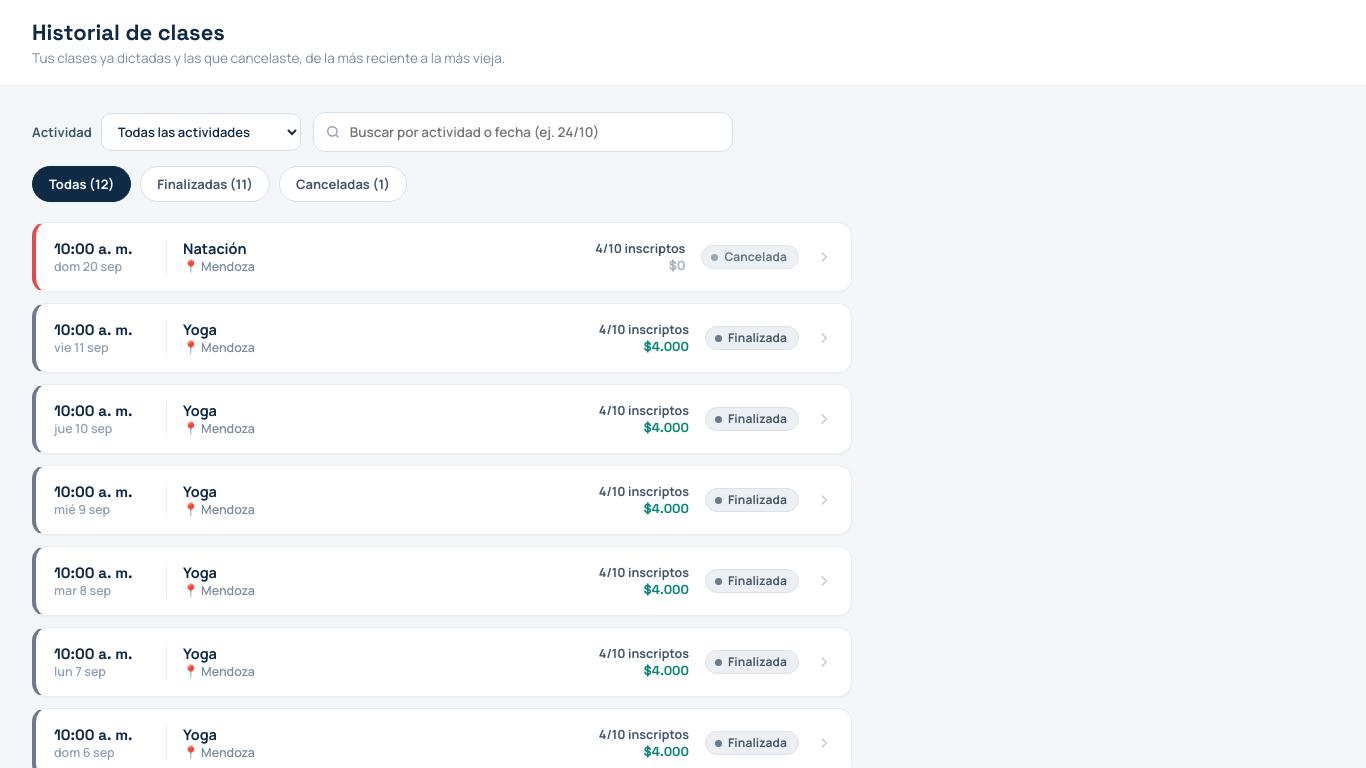
Test: historial del instructor › sin coincidencias lo dice
The width and height of the screenshot is (1366, 768).
expect the button "Todas (12)" is shown: met, box [32, 166, 131, 202]
Type "pilates" into the search field named "Buscar clases".
click(523, 132); type("pilates")  # box [313, 112, 733, 152]
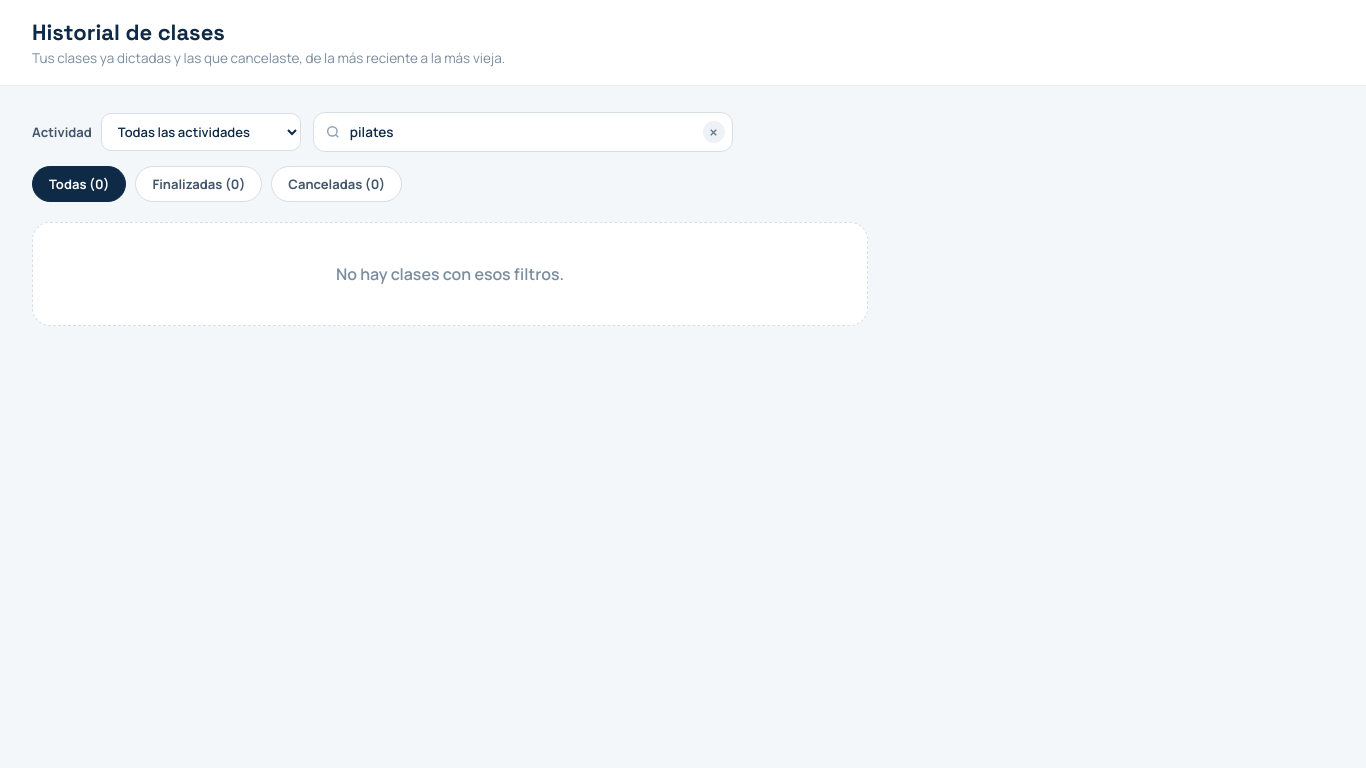
expect the text "No hay clases con esos filtros." is shown: met, box [32, 222, 868, 326]
